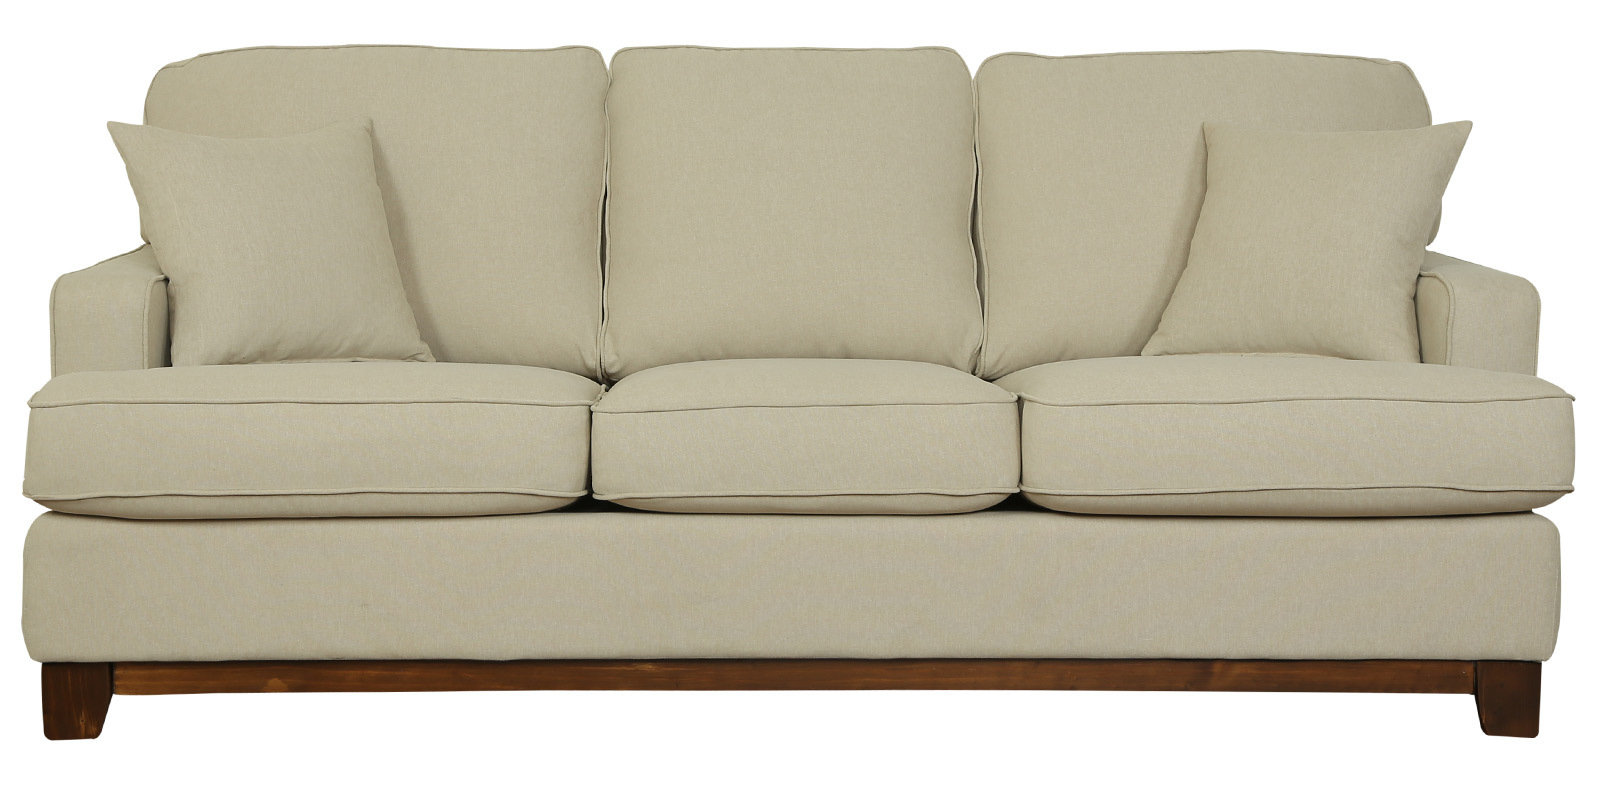Parana Three Seater Sofa in Beige Color by CasaCraft: (20, 44, 1574, 741)
